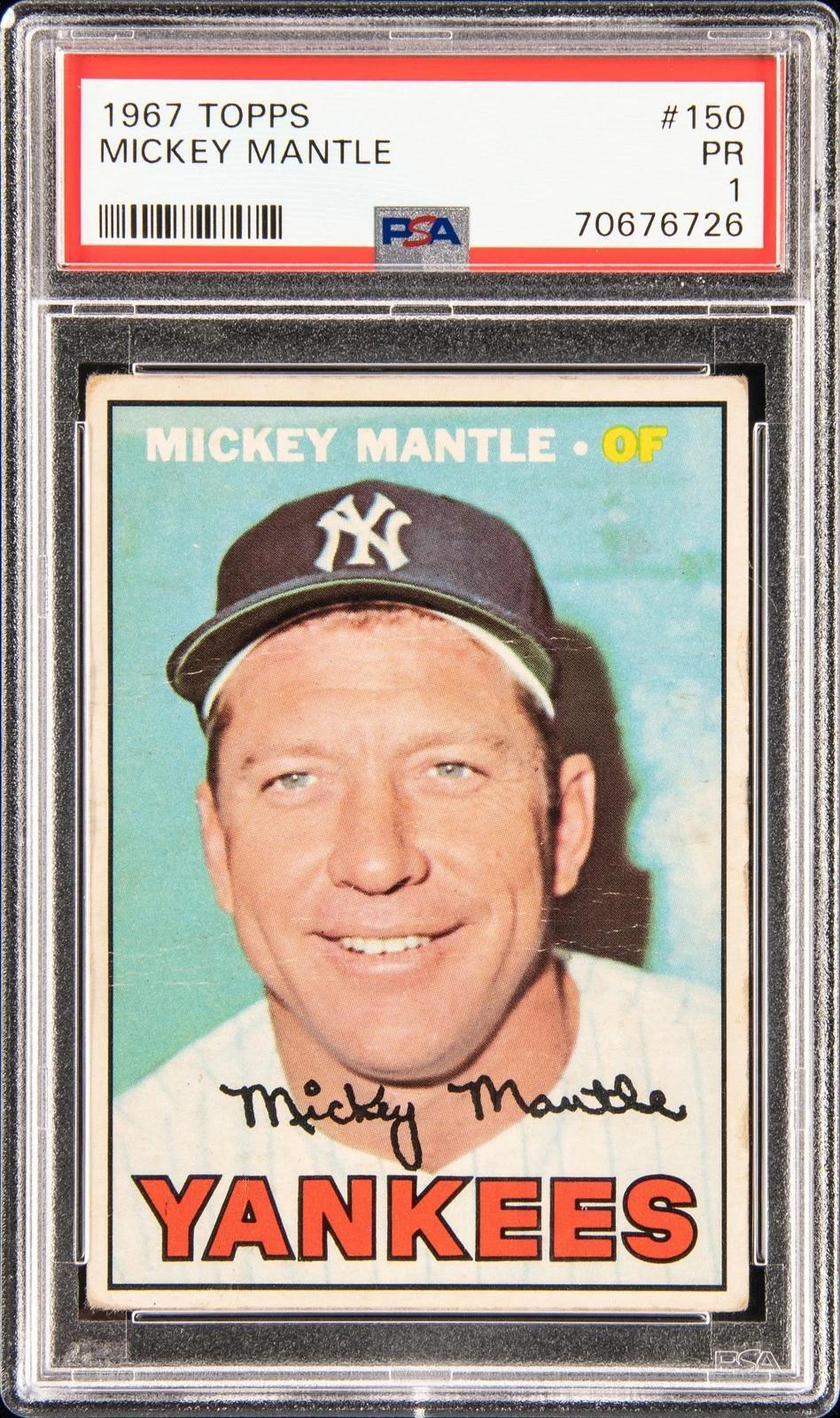card-2UtV: (82, 369, 751, 1317)
